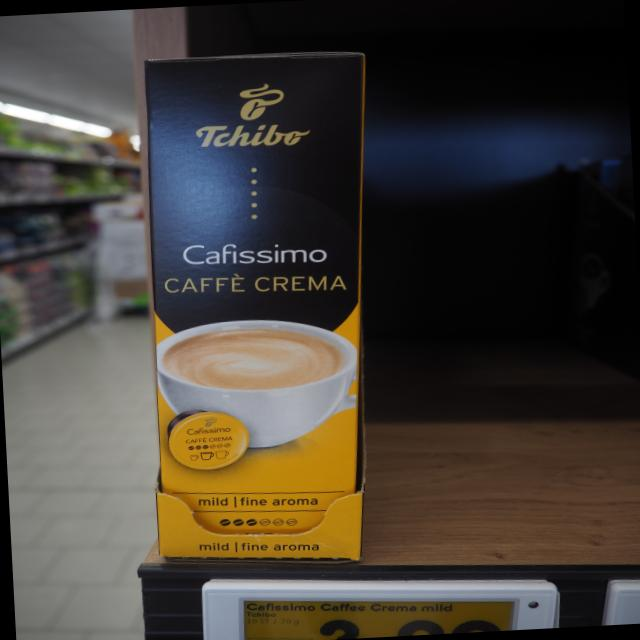Simo CCMild bigpack: (146, 48, 370, 565)
